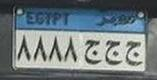8: (18, 34, 30, 63), (34, 35, 46, 62), (49, 36, 61, 62), (65, 36, 76, 63)
jeem: (83, 39, 101, 65), (104, 40, 122, 65), (126, 40, 142, 67)
